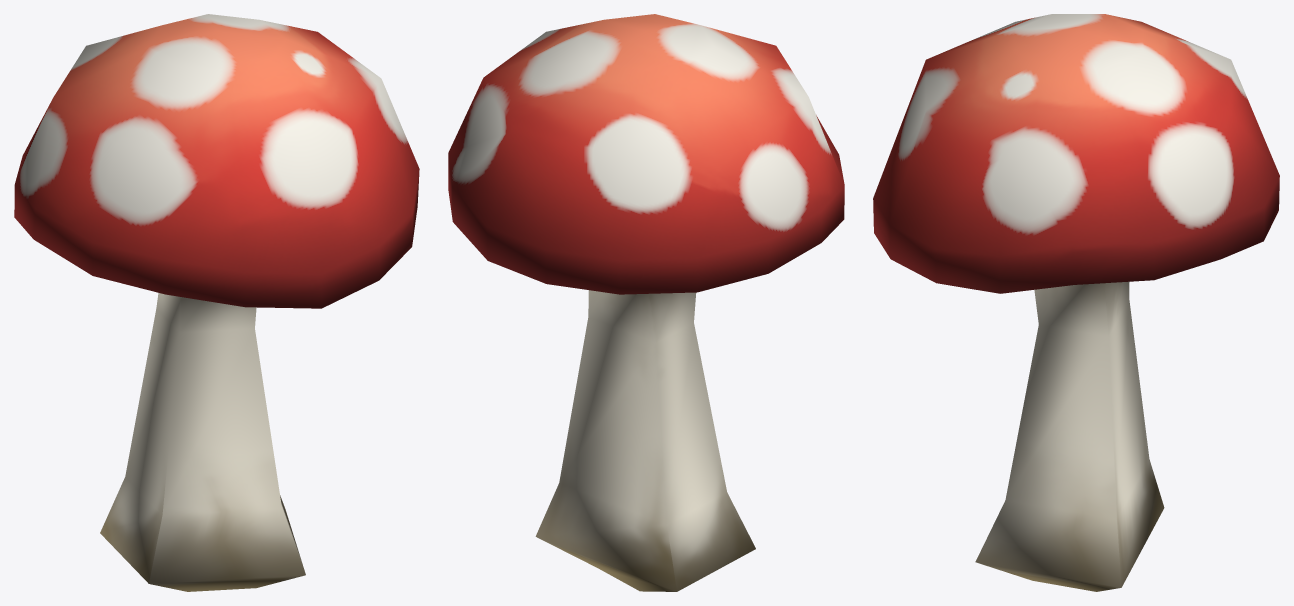
Rendered from FlyAgaric_003.fbx.
3 views of the same model, side by side, from view 1: azimuth 30°, elevation 25°; view 2: azimuth 150°, elevation 25°; view 3: azimuth 270°, elevation 25° (orthographic).
Visible parts, largest first — view 1: FlyAgaric_03_LOD0; view 2: FlyAgaric_03_LOD0; view 3: FlyAgaric_03_LOD0.
Part boxes in pixels (x1,y1,x2,y2): FlyAgaric_03_LOD0: (14, 14, 419, 591); FlyAgaric_03_LOD0: (448, 14, 844, 591); FlyAgaric_03_LOD0: (873, 14, 1279, 591).
Size of what is drawn, in the model's own units: 11.75 by 17.13 by 11.62.
